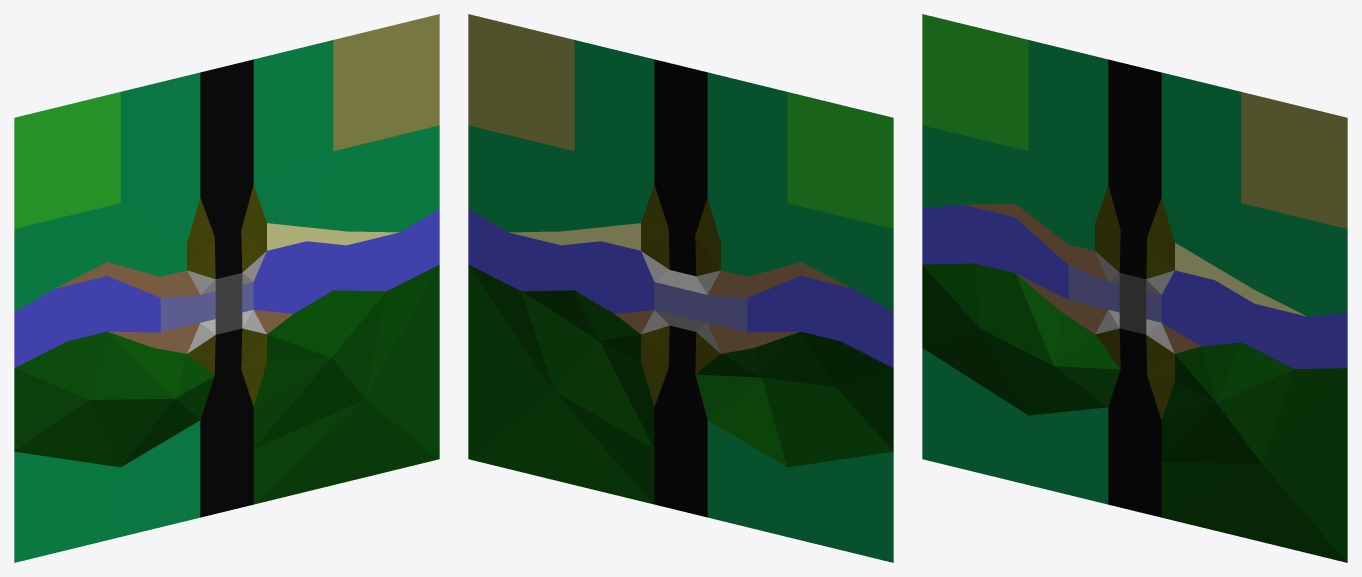
The model's file is tiles1_36.obj.
3 views of the same model, side by side, from view 1: azimuth 30°, elevation 25°; view 2: azimuth 150°, elevation 25°; view 3: azimuth 330°, elevation 25° (orthographic).
Parts seen in each view (by area): view 1: tiles1_36; view 2: tiles1_36; view 3: tiles1_36.
Part boxes in pixels (box(x1,y1,x2,y2)): tiles1_36: box(14, 14, 439, 562); tiles1_36: box(468, 14, 893, 562); tiles1_36: box(922, 14, 1347, 562).
Size of the model in its own units: 4.1 by 4.1 by 0.24.
